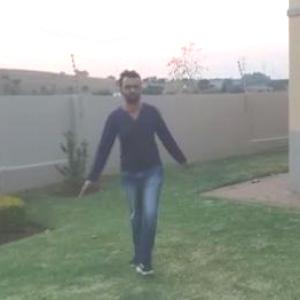land: (84, 70, 188, 286)
